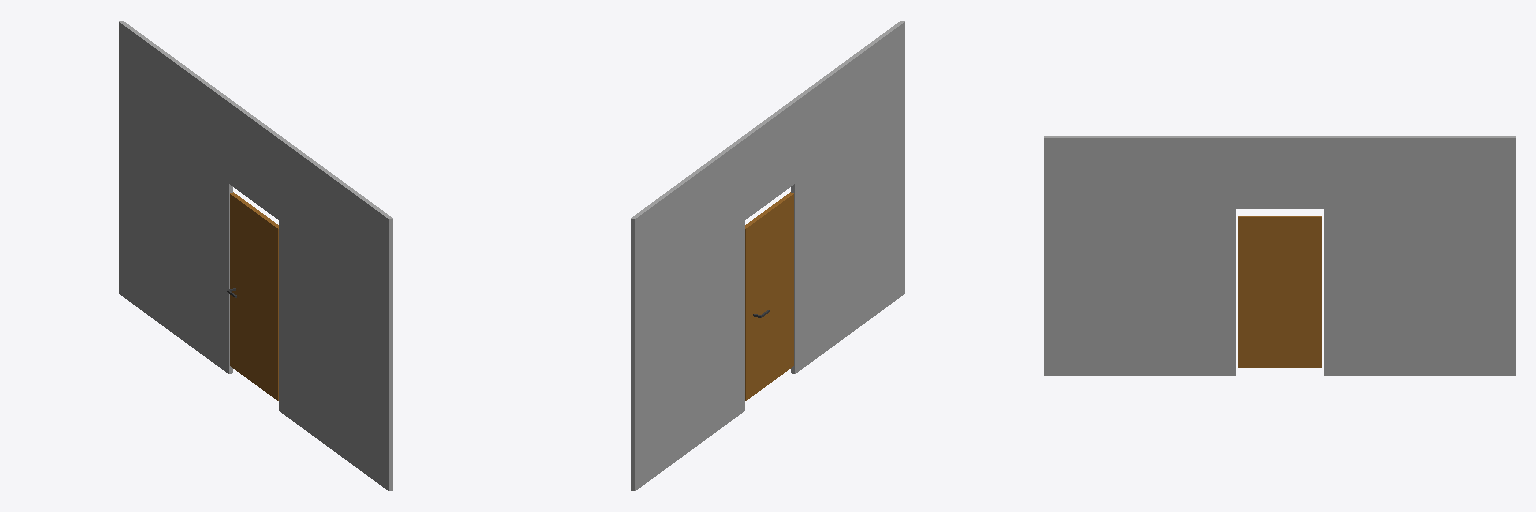
URDF robot description (wall_with_single_door):
<?xml version="1.0"?>
<robot name="wall_with_single_door">
  <!-- ROTATED ROOT: celý model se posadí pod tento link a otočí o 90° kolem Z -->
  <link name="rot_root">
    <inertial>
      <origin xyz="0 0 0" rpy="0 0 0"/>
      <mass value="0.0"/>
      <inertia ixx="0.0001" ixy="0.0" ixz="0.0" iyy="0.0001" iyz="0.0" izz="0.0001"/>
    </inertial>
  </link>

  <!-- pevné připojení wall_base pod rot_root s rotací 90 deg kolem Z -->
  <joint name="rot_root_to_wall_base" type="fixed">
    <parent link="rot_root"/>
    <child  link="wall_base"/>
    <origin xyz="0 0 0" rpy="0 0 1.57079632679"/>
  </joint>

  <!-- BASE -->
  <link name="wall_base">
    <inertial>
      <origin xyz="0 0 0" rpy="0 0 0" />
      <mass value="1.0" />
      <inertia ixx="0.001" ixy="0.0" ixz="0.0" iyy="0.001" iyz="0.0" izz="0.001" />
    </inertial>
  </link>

  <!-- LEFT PANEL (now longer to meet narrower door) -->
  <link name="wall_left">
    <visual>
      <!-- door is now centered at x=0 with width 0.6, so left panel extends from -2.5 to -0.3 -->
      <origin xyz="-1.4 0 1.5" />
      <geometry>
        <box size="2.2 0.05 3.0" />
      </geometry>
      <material name="grey"><color rgba="0.7 0.7 0.7 1.0"/></material>
    </visual>
    <collision>
      <origin xyz="-1.4 0 1.5" />
      <geometry>
        <box size="2.1 0.05 3.0" />
      </geometry>
    </collision>
  </link>

  <joint name="wall_left_fixed" type="fixed">
    <parent link="wall_base"/>
    <child  link="wall_left"/>
  </joint>

  <!-- RIGHT PANEL -->
  <link name="wall_right">
    <visual>
      <!-- door extends to +0.3, wall continues to +2.5, so length 2.2 -->
      <origin xyz="1.8 0 1.5" />
      <geometry>
        <box size="2.2 0.05 3.0" />
      </geometry>
      <material name="grey"><color rgba="0.7 0.7 0.7 1.0"/></material>
    </visual>
    <collision>
      <origin xyz="1.8 0 1.5" />
      <geometry>
        <box size="2.2 0.05 3.0" />
      </geometry>
    </collision>
  </link>

  <joint name="wall_right_fixed" type="fixed">
    <parent link="wall_base"/>
    <child  link="wall_right"/>
  </joint>

  <!-- LINTEL -->
  <link name="wall_lintel">
    <visual>
      <origin xyz="0 0 2.55" />
      <geometry>
        <box size="5.0 0.05 0.9" />
      </geometry>
      <material name="grey"><color rgba="0.7 0.7 0.7 1.0"/></material>
    </visual>
    <collision>
      <origin xyz="0 0 2.55" />
      <geometry>
        <box size="5.0 0.05 0.9" />
      </geometry>
    </collision>
  </link>

  <joint name="wall_lintel_fixed" type="fixed">
    <parent link="wall_base"/>
    <child  link="wall_lintel"/>
  </joint>

  <!-- DOOR (width reduced from 1.0 to 0.6) -->
  <link name="door">
    <visual>
      <!-- visual now relative to door frame (z=0) because frame moved up in joint -->
      <origin xyz="0.5 0 1.05" />
      <geometry>
        <box size="0.97 0.05 1.9" />
      </geometry>
      <material name="wood"><color rgba="0.65 0.45 0.2 1.0"/></material>
    </visual>
    <collision>
      <origin xyz="0.5 0 1.05" />
      <geometry>
        <box size="0.97 0.05 1.9" />
      </geometry>
    </collision>
    <inertial>
      <origin xyz="0.3 0 1.05" />
      <mass value="20.0" />
      <inertia ixx="0.1" ixy="0.0" ixz="0.0" iyy="0.1" iyz="0.0" izz="0.1" />
    </inertial>
  </link>

  <joint name="door_hinge" type="revolute">
    <parent link="wall_base" />
    <child  link="door" />
    <!-- raise the door frame by 1.05 m so visuals and collision align in world -->
    <origin xyz="-0.3 0 0.0" />
    <axis xyz="0 0 1" />
    <limit effort="1000.0" velocity="5.0" lower="-1.5708" upper="0.0" />
    <dynamics damping="0.5" friction="0.0" />
  </joint>

  <!-- DOOR HANDLE -->
  <link name="door_handle">
    <visual>
      <origin xyz="0 0.135 0.0" rpy="0 0 0"/>
      <geometry><box size="0.02 0.15 0.02"/></geometry>
      <material name="metal"><color rgba="0.3 0.3 0.3 1.0"/></material>
    </visual>
    <collision>
      <origin xyz="0 0.135 0.0" rpy="0 0 0"/>
      <geometry><box size="0.02 0.15 0.02"/></geometry>
    </collision>
    <inertial>
      <origin xyz="0 0.135 0.0" rpy="0 0 0"/>
      <mass value="0.5"/> <inertia ixx="0.0005" ixy="0.0" ixz="0.0" iyy="0.0005" iyz="0.0" izz="0.0005"/>
    </inertial>
  </link>

  <link name="door_handle_stem">
    <visual>
      <origin xyz="0.13 0 0.0" rpy="0 0 0"/>
      <geometry><box size="0.1 0.020 0.02"/></geometry>
      <material name="metal"/>
    </visual>
    <collision>
      <origin xyz="0.13 0 0.0" rpy="0 0 0"/>
      <geometry><box size="0.1 0.020 0.02"/></geometry>
    </collision>
    <inertial>
      <origin xyz="0.13 0 0.0" rpy="0 0 0"/>
      <mass value="0.5"/> <inertia ixx="0.0002" ixy="0.0" ixz="0.0" iyy="0.0002" iyz="0.0" izz="0.0002"/>
    </inertial>
  </link>

  <joint name="door_handle_joint" type="revolute">
    <parent link="door"/>
    <child  link="door_handle_stem"/>
    <origin xyz="0.85 0.21 1.0" rpy="0 0 -1.57079632679"/>
    <axis xyz="1 0 0" />
    <limit effort="5.0" velocity="10.0" lower="0.0" upper="0.8" />
    <dynamics damping="0.0" friction="0.0" />
  </joint>

  <joint name="stem_to_handle_fixed" type="fixed">
    <parent link="door_handle_stem"/>
    <child  link="door_handle"/>
    <origin xyz="0.09 0.05 0.0" rpy="3.14 0 0"/>
  </joint>


</robot>

--- What the picture shows (computed from the rendered views, not written in the file) ---
The picture shows the robot from 3 angles, left to right: view 1: azimuth 30°, elevation 25°; view 2: azimuth 150°, elevation 25°; view 3: azimuth 270°, elevation 25°; orthographic projection.
Robot: wall_with_single_door — 8 links, 7 joints (2 revolute, 5 fixed); root link rot_root; default pose: every joint at zero.
Links seen in each view (by area): view 1: wall_left, wall_right, door, wall_lintel; view 2: wall_left, wall_right, wall_lintel, door; view 3: wall_left, wall_right, door, wall_lintel.
Link boxes in pixels (bbox=[...]): wall_left: bbox=[279, 139, 392, 490]; wall_right: bbox=[119, 21, 232, 373]; door: bbox=[230, 192, 278, 400]; wall_lintel: bbox=[139, 35, 392, 298]; wall_left: bbox=[791, 21, 904, 373]; wall_right: bbox=[631, 138, 744, 490]; wall_lintel: bbox=[652, 21, 904, 283]; door: bbox=[745, 192, 793, 400]; wall_left: bbox=[1044, 136, 1235, 375]; wall_right: bbox=[1324, 136, 1515, 375]; door: bbox=[1238, 216, 1321, 367]; wall_lintel: bbox=[1044, 136, 1480, 208].
Size in the robot's own frame: 0.155 by 5.4 by 3 metres.
Geometry: primitives only (box / cylinder / sphere), no mesh files.
